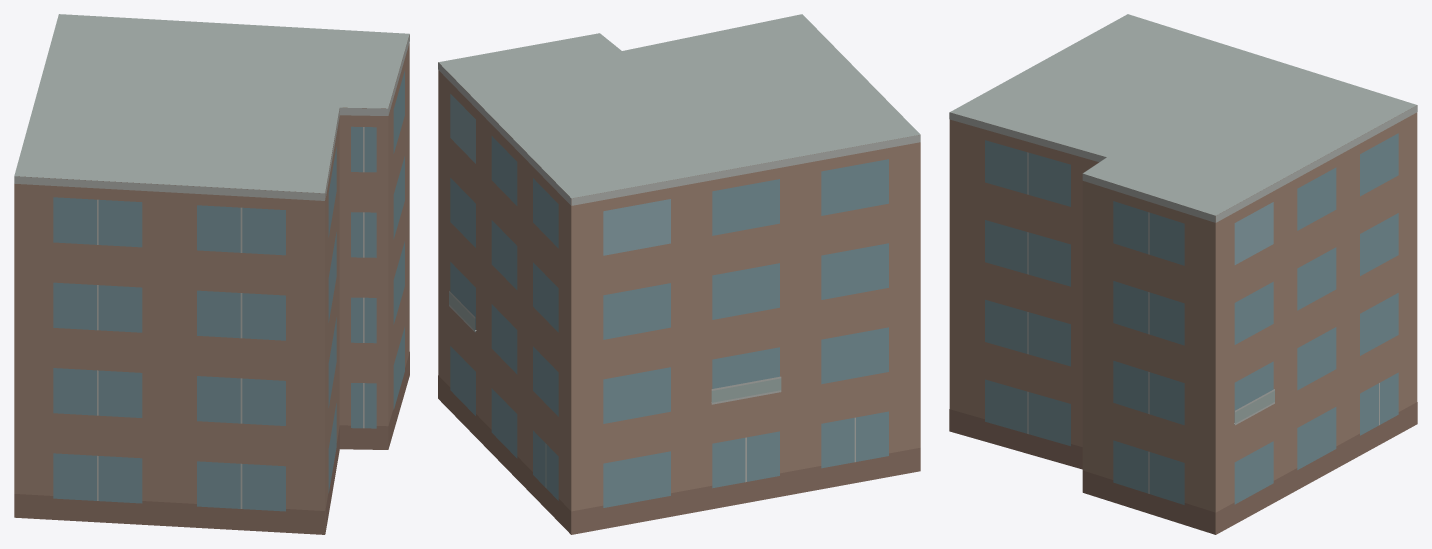
The model's file is survey-upis-32851458.glb.
The picture shows the model from 3 angles, left to right: view 1: azimuth 30°, elevation 25°; view 2: azimuth 150°, elevation 25°; view 3: azimuth 270°, elevation 25°; orthographic projection. The views are drawn at different scales.
Visible parts, largest first — view 1: survey-upis-32851458.tmp; view 2: survey-upis-32851458.tmp; view 3: survey-upis-32851458.tmp.
Boxes of the visible parts, left/top/right/bottom form: survey-upis-32851458.tmp: left=14, top=14, right=409, bottom=534; survey-upis-32851458.tmp: left=438, top=14, right=920, bottom=534; survey-upis-32851458.tmp: left=949, top=14, right=1417, bottom=534.
Size of the model in its own units: 14.79 by 10.9 by 14.49.
